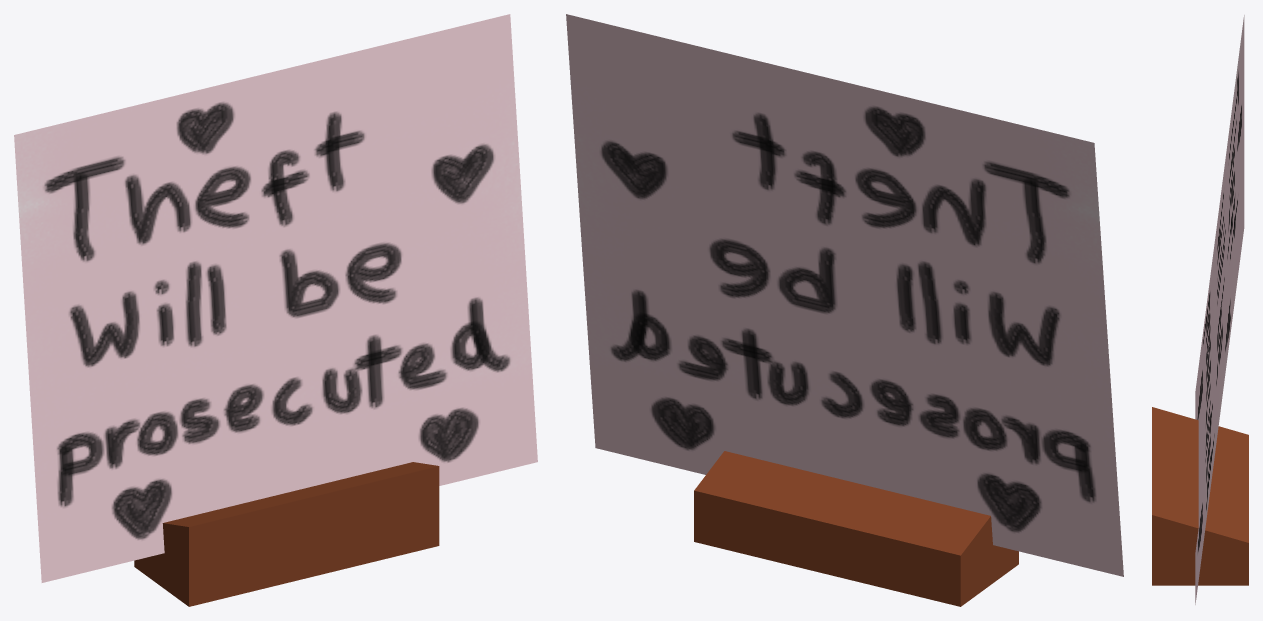
File: table_sign.glb
3 views of the same model, side by side, from view 1: azimuth 30°, elevation 25°; view 2: azimuth 150°, elevation 25°; view 3: azimuth 270°, elevation 25° (orthographic). The views are drawn at different scales.
Parts seen in each view (by area): view 1: Cube.004; view 2: Cube.004; view 3: Cube.004.
Part boxes in pixels (x1,y1,x2,y2): Cube.004: [14, 14, 537, 606]; Cube.004: [566, 14, 1123, 606]; Cube.004: [1152, 15, 1248, 604].
Size of the model in its own units: 0.2599 by 0.2321 by 0.0497.
Materials: 2 (1 with a texture image).
